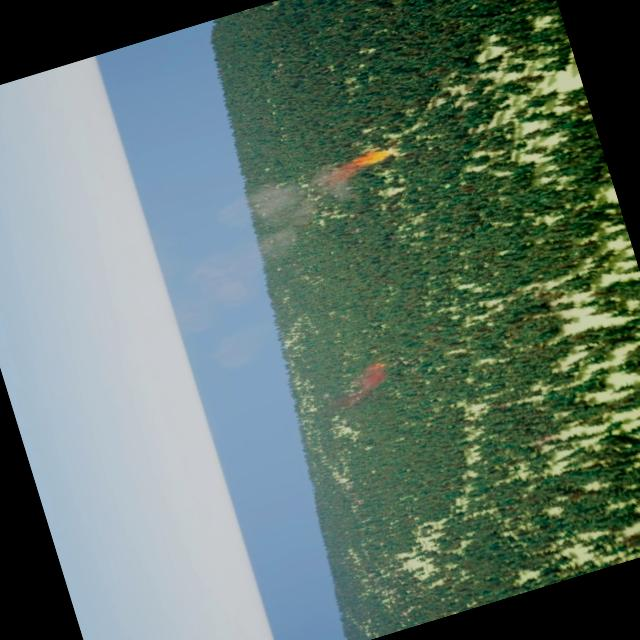fire: (346, 140, 402, 173)
smoke: (140, 156, 374, 332), (334, 360, 392, 404)
